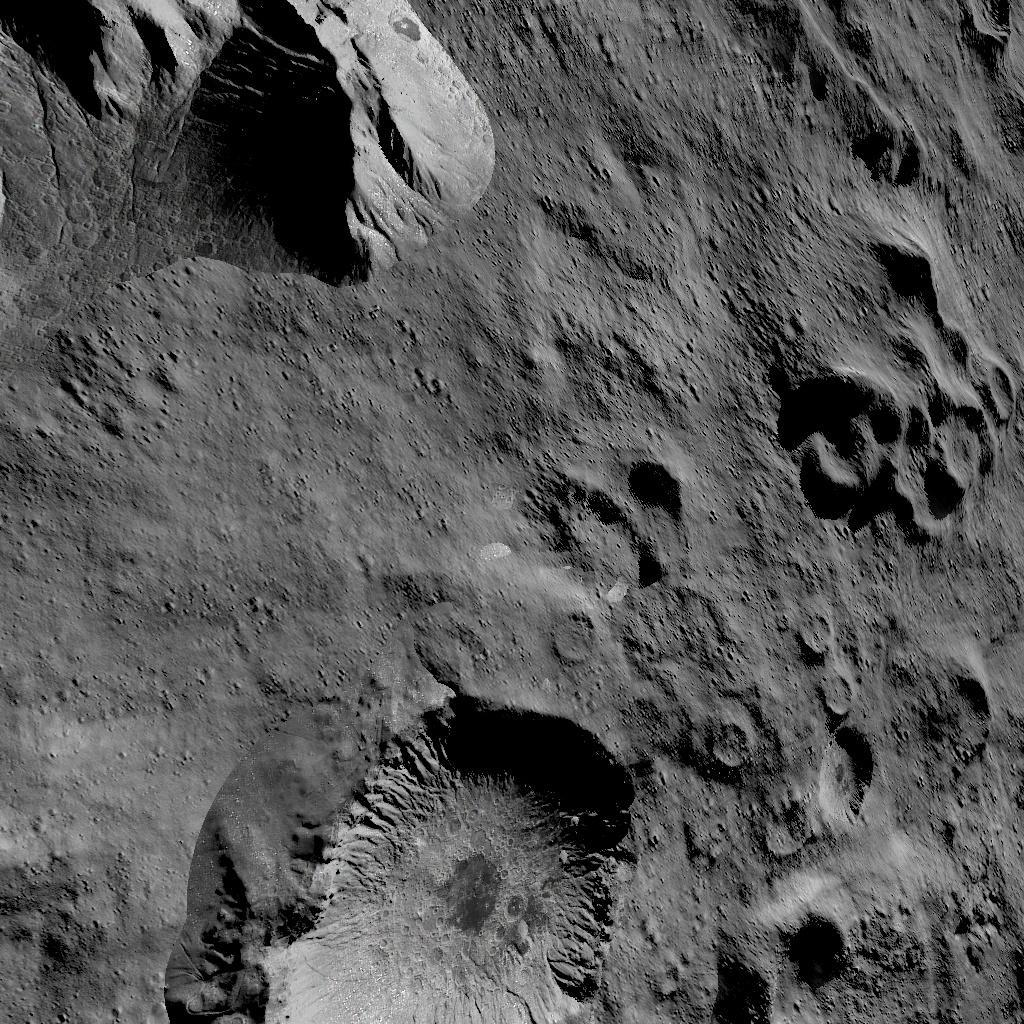Boulders: (1, 0, 490, 332)
Crater: (168, 684, 662, 1022), (767, 350, 1024, 528), (693, 862, 852, 1024), (791, 618, 880, 826), (540, 456, 686, 582), (914, 665, 994, 761), (864, 236, 938, 315), (946, 0, 1024, 65), (688, 708, 749, 774), (546, 606, 606, 668)
Plan surface: (0, 340, 496, 673), (505, 2, 708, 440)
